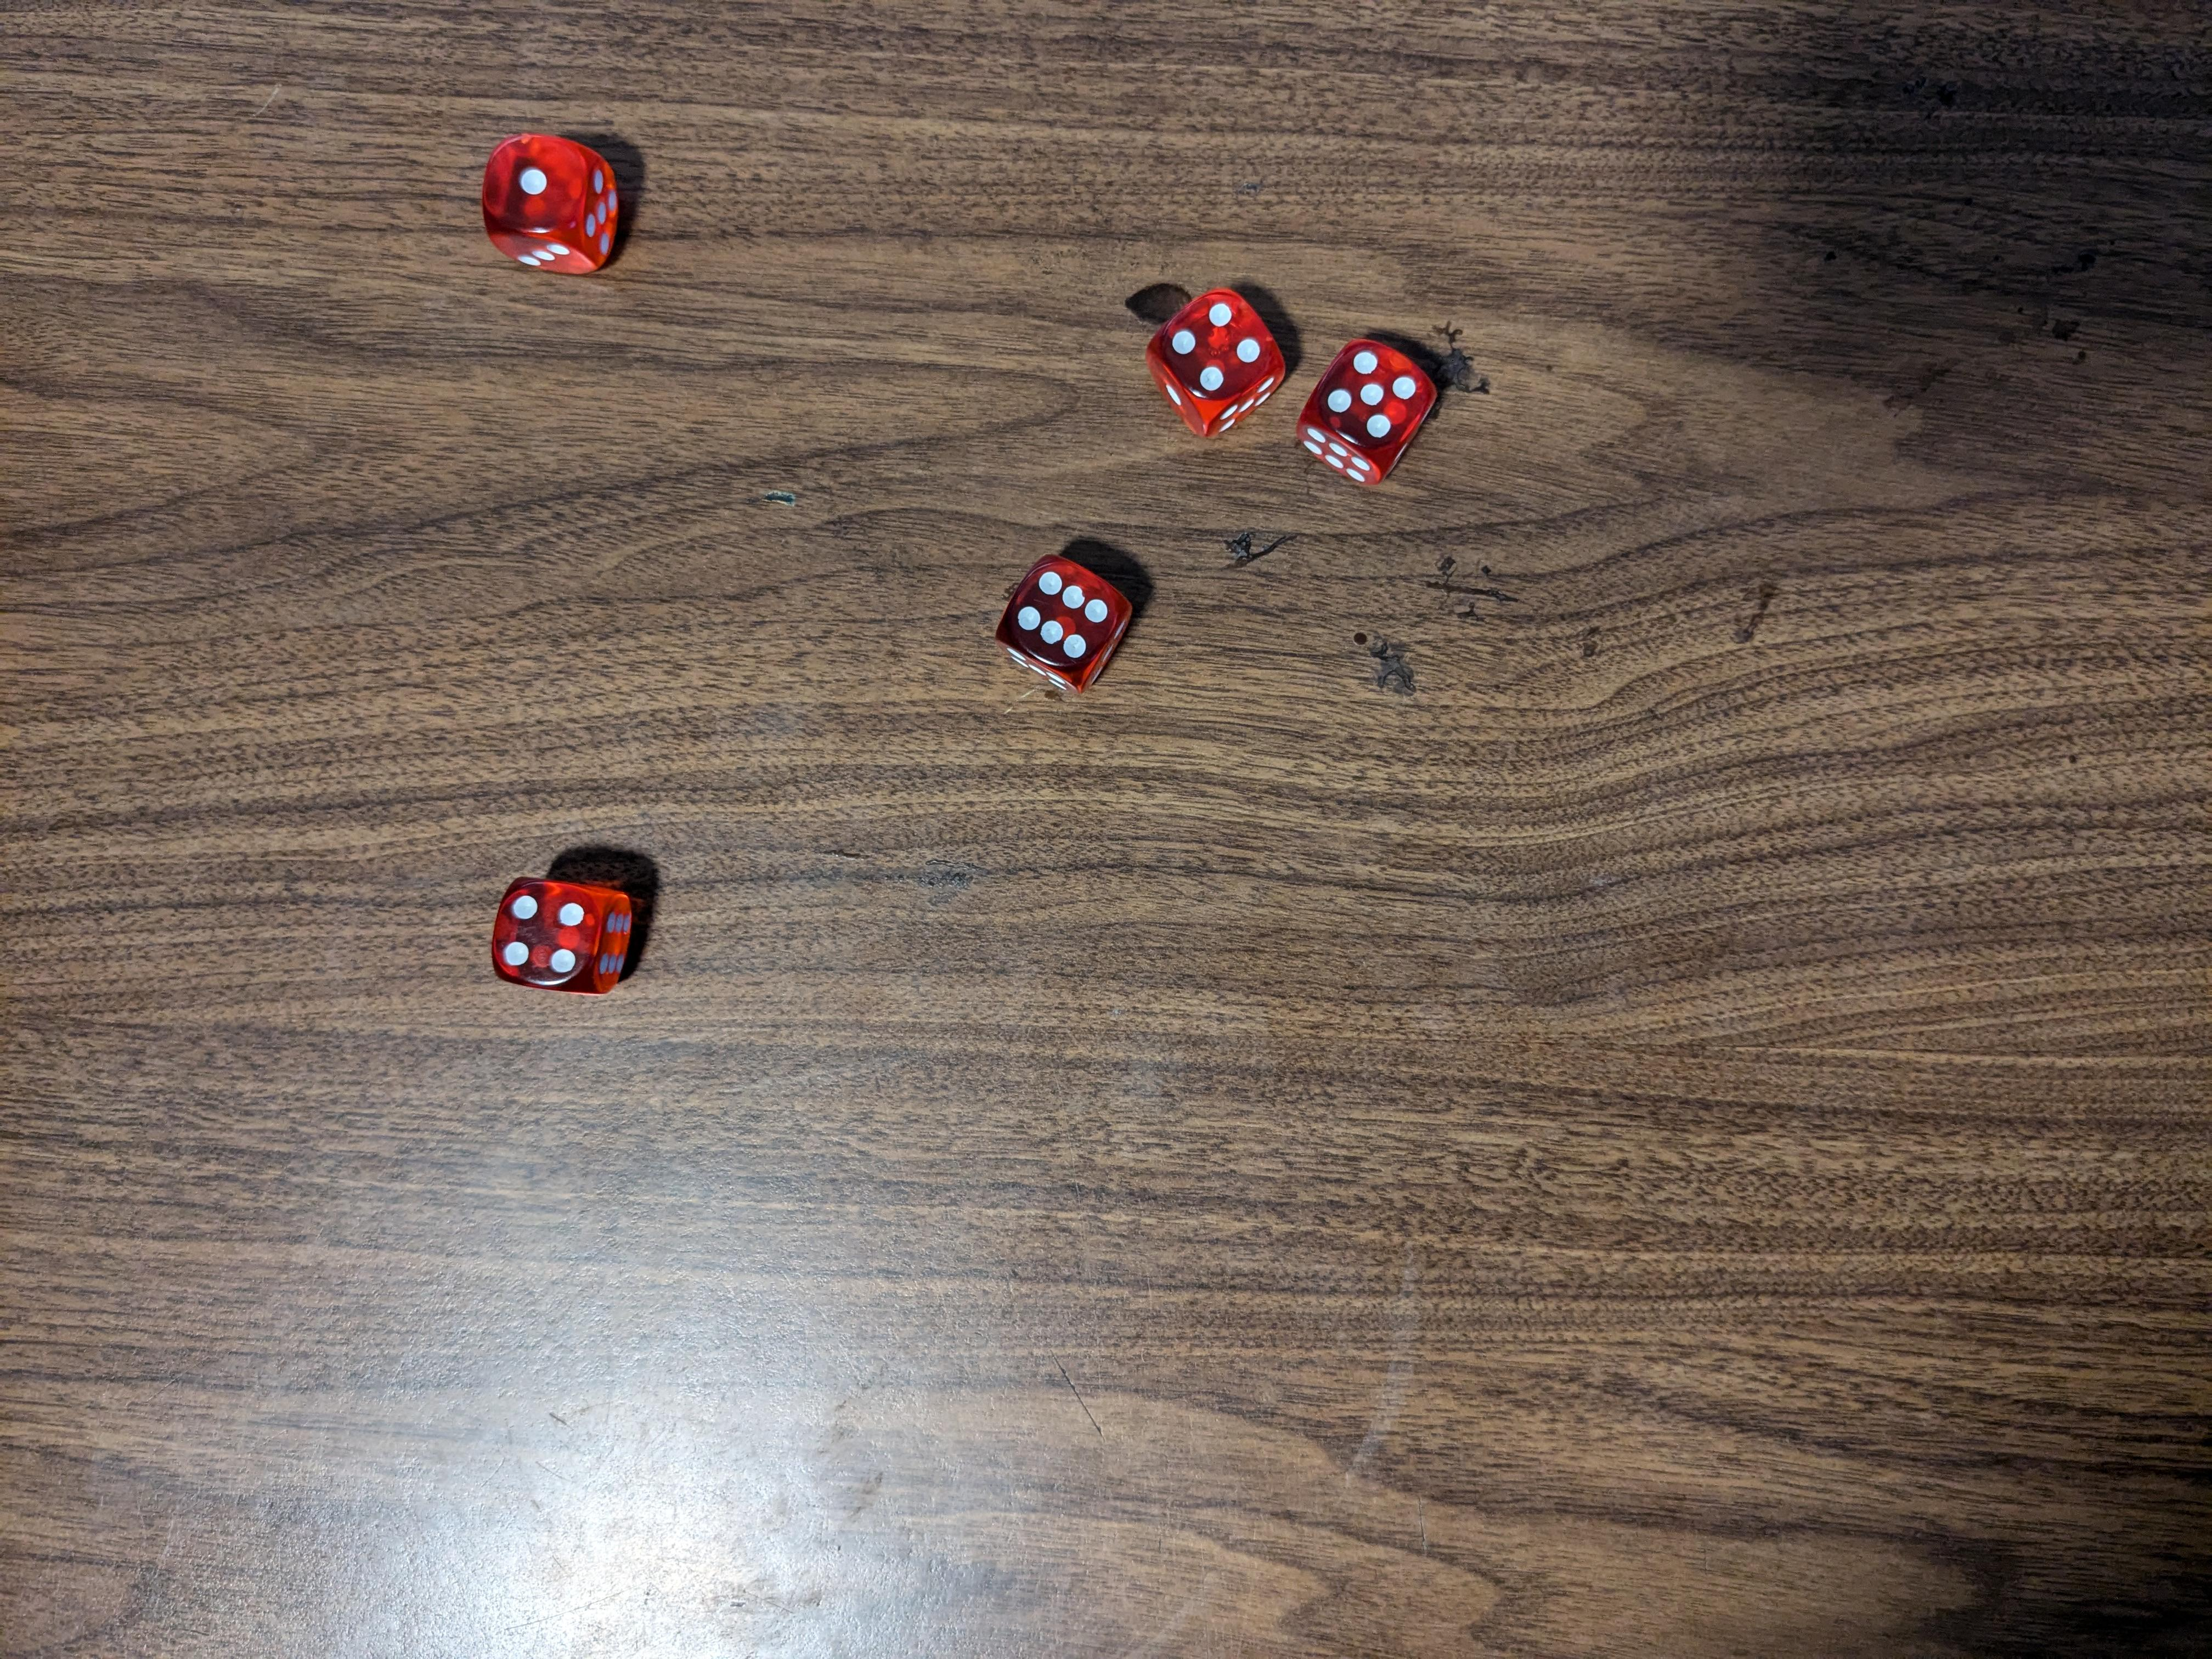five: (1292, 333, 1437, 481)
four: (1141, 284, 1285, 434), (489, 873, 641, 1002)
one: (475, 122, 624, 282)
six: (991, 552, 1141, 697)
